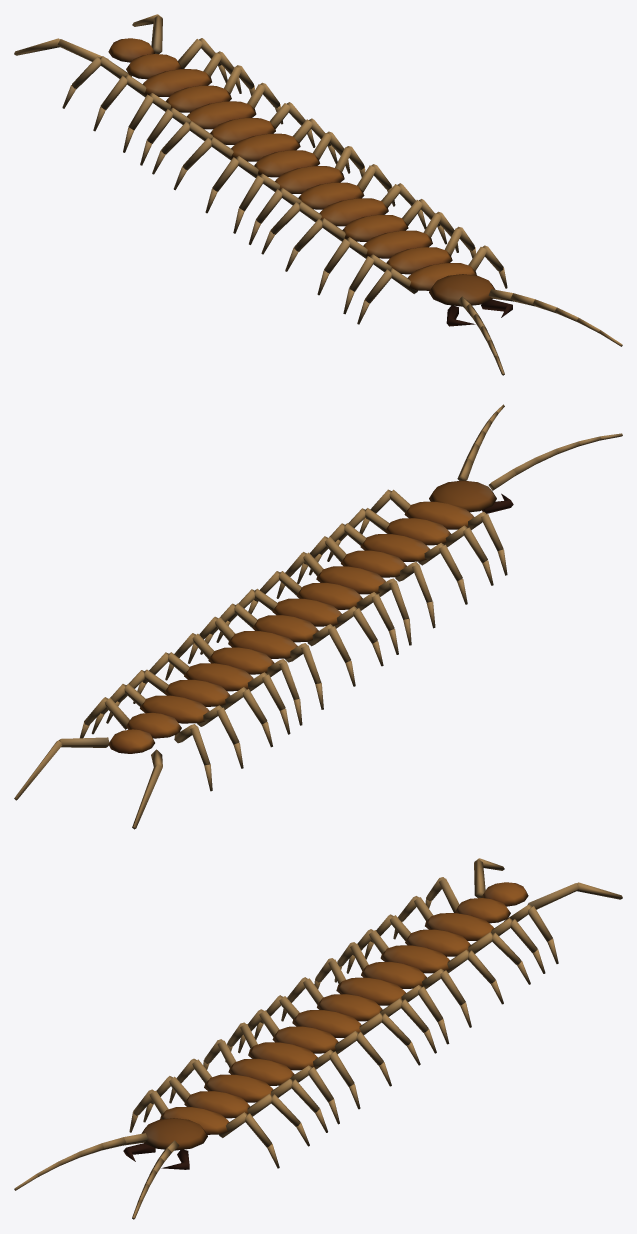
Rendered from Devonobius.fbx.
3 views of the same model, one above another, from view 1: azimuth 30°, elevation 25°; view 2: azimuth 150°, elevation 25°; view 3: azimuth 330°, elevation 25° (orthographic).
Parts seen in each view (by area): view 1: Devonobius; view 2: Devonobius; view 3: Devonobius.
Boxes of the visible parts, <box> form: Devonobius: <box>14,14,622,375</box>; Devonobius: <box>14,404,622,829</box>; Devonobius: <box>14,858,622,1219</box>.
Bounding box in the file's own units: 0.3041 × 0.1048 × 1.72.
